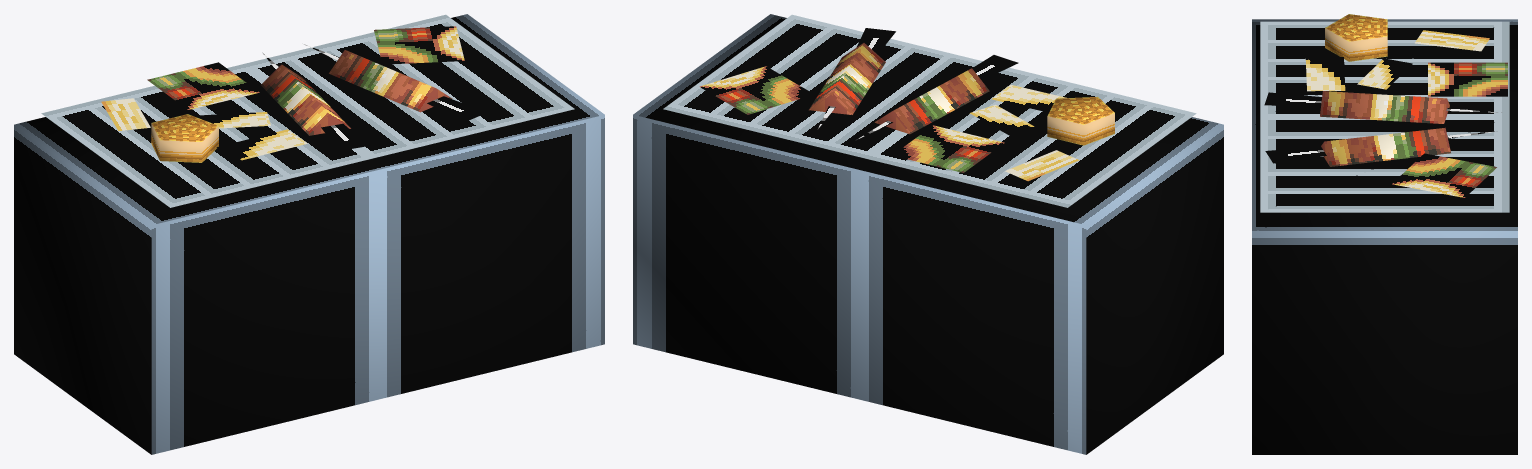
3 views of the same model, side by side, from view 1: azimuth 30°, elevation 25°; view 2: azimuth 150°, elevation 25°; view 3: azimuth 270°, elevation 25° (orthographic). The views are drawn at different scales.
Visible parts, largest first — view 1: 3424IMIG20_23; view 2: 3424IMIG20_23; view 3: 3424IMIG20_23.
Part boxes in pixels (bbox=[...]): 3424IMIG20_23: bbox=[14, 14, 604, 454]; 3424IMIG20_23: bbox=[633, 14, 1223, 454]; 3424IMIG20_23: bbox=[1252, 14, 1517, 454].
Bounding box in the file's own units: 1.52 × 0.8447 × 0.7988.
Materials: 4 (4 with a texture image).
